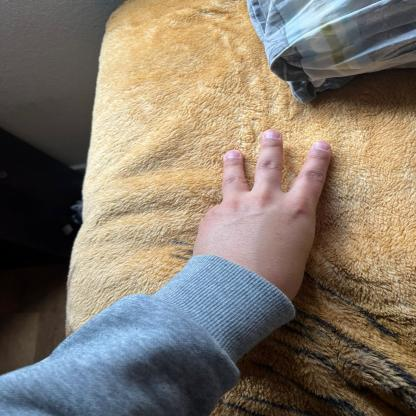W: (193, 120, 337, 310)
